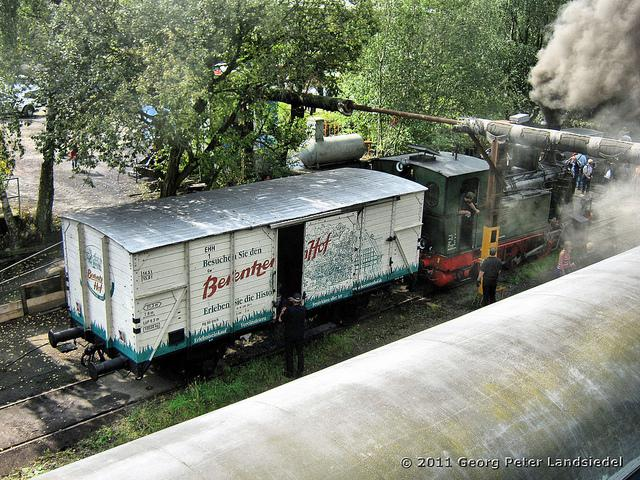Train: (46, 147, 620, 382)
